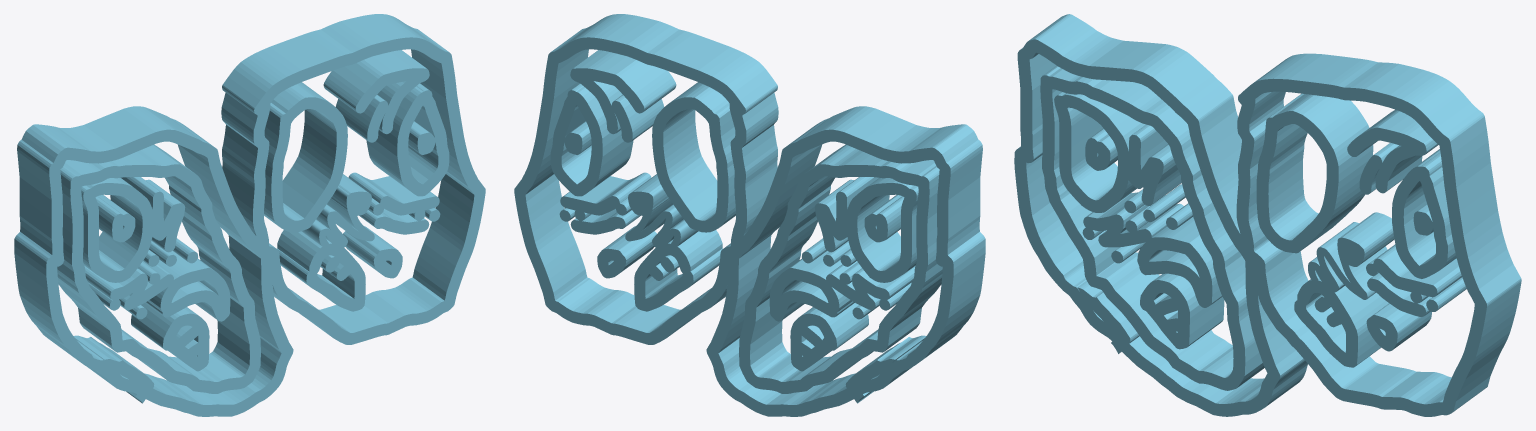
Rendered from tinker.obj.
The picture shows the model from 3 angles, left to right: view 1: azimuth 30°, elevation 25°; view 2: azimuth 150°, elevation 25°; view 3: azimuth 330°, elevation 25°; orthographic projection. The views are drawn at different scales.
Visible parts, largest first — view 1: obj_0; view 2: obj_0; view 3: obj_0.
Part boxes in pixels (x1,y1,x2,y2): obj_0: [14, 14, 485, 416]; obj_0: [514, 14, 985, 416]; obj_0: [1014, 14, 1521, 416].
Bounding box in the file's own units: 79.11 × 58.07 × 10.
